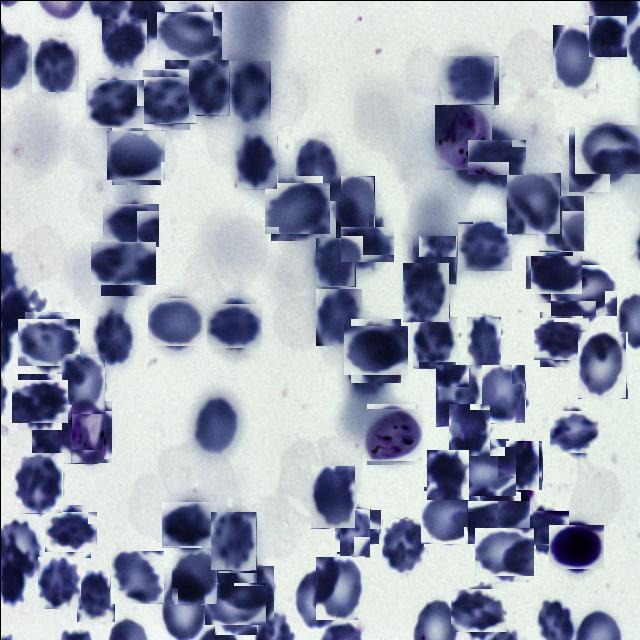leukocyte: (551, 521, 601, 571)
red blood cell: (266, 178, 326, 237), (554, 260, 612, 320), (578, 120, 638, 178), (576, 331, 626, 398), (506, 172, 560, 234), (160, 7, 217, 64), (346, 322, 404, 378), (20, 314, 76, 370), (422, 488, 478, 544), (315, 554, 364, 618), (456, 442, 512, 498), (94, 236, 150, 290), (293, 137, 340, 200), (138, 72, 192, 126), (86, 76, 140, 130), (477, 524, 531, 578), (442, 53, 497, 106), (435, 364, 482, 426), (149, 294, 202, 348), (109, 128, 162, 182), (310, 465, 355, 528), (477, 364, 525, 423), (402, 262, 449, 322), (110, 550, 162, 604), (192, 393, 238, 454), (13, 456, 62, 513), (568, 126, 610, 192), (552, 24, 595, 88), (210, 511, 256, 570), (458, 220, 510, 272), (209, 577, 261, 629), (472, 496, 524, 548), (227, 60, 270, 122), (163, 498, 214, 550), (60, 353, 104, 413), (31, 34, 78, 90), (315, 288, 361, 345), (538, 194, 584, 250), (90, 307, 134, 365), (229, 565, 273, 622), (208, 300, 258, 350), (454, 584, 504, 634), (105, 200, 155, 250), (14, 376, 64, 426), (335, 175, 374, 239), (296, 565, 335, 628), (381, 518, 426, 572), (234, 133, 277, 189), (536, 314, 585, 363), (528, 250, 576, 298), (472, 133, 520, 181), (171, 554, 217, 604), (188, 59, 229, 115), (412, 316, 456, 368), (46, 507, 94, 554), (101, 18, 146, 68), (37, 556, 80, 608), (448, 403, 490, 456), (412, 235, 456, 284), (550, 408, 596, 454), (426, 449, 468, 499), (520, 506, 565, 552), (344, 221, 388, 266), (76, 569, 114, 621), (314, 237, 354, 286), (335, 508, 379, 552), (31, 404, 71, 452), (466, 316, 500, 371), (505, 440, 542, 490), (588, 15, 626, 56), (339, 508, 370, 557)
trophozoite: (432, 102, 490, 168), (364, 405, 421, 462), (63, 400, 112, 463)
